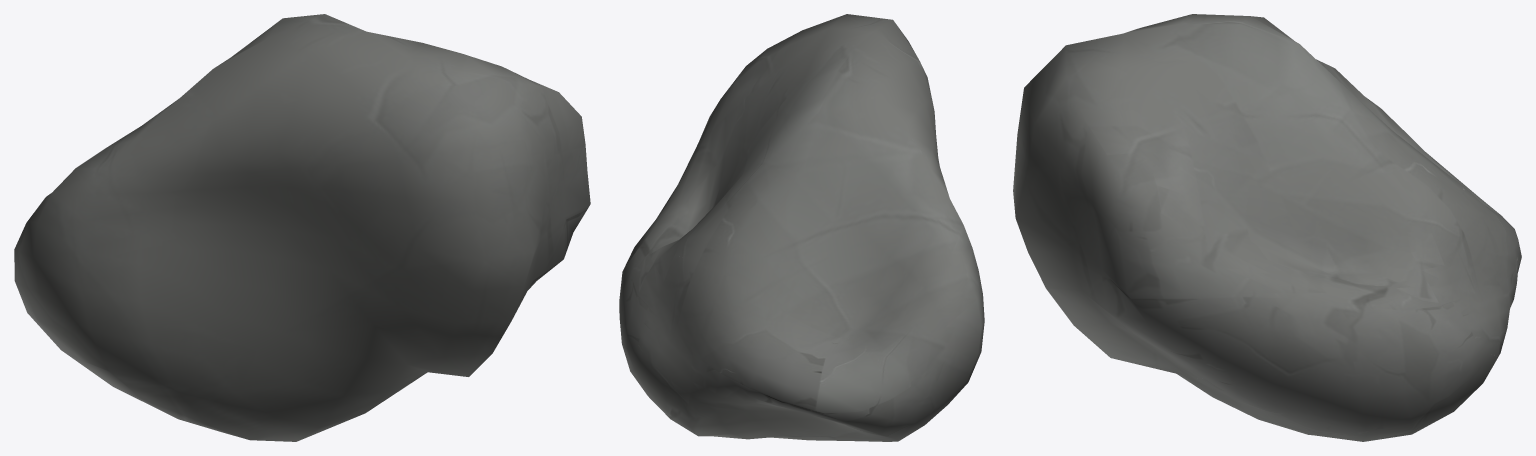
Rendered from Stone1.fbx.
3 renders of one model, left to right at view 1: azimuth 30°, elevation 25°; view 2: azimuth 150°, elevation 25°; view 3: azimuth 270°, elevation 25°, orthographic. The views are drawn at different scales.
Parts seen in each view (by area): view 1: Cube; view 2: Cube; view 3: Cube.
Boxes of the visible parts, left/top/right/bottom form: Cube: left=14, top=14, right=590, bottom=441; Cube: left=619, top=14, right=984, bottom=441; Cube: left=1013, top=14, right=1521, bottom=441.
Size of the model in its own units: 155 by 144 by 167.
Materials: 1 (1 with a texture image).
